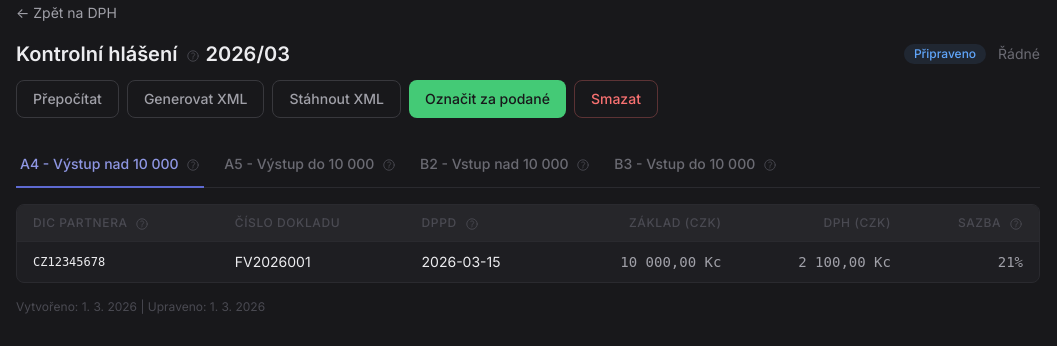
Test: Control Statement Detail › shows empty state for B3 tab
Expected: the button "A4 - Výstup nad 10 000" is shown, [16,142,204,188]
Click the button "B3 - Vstup do 10 000" at [696, 165], box [610,142,781,188]
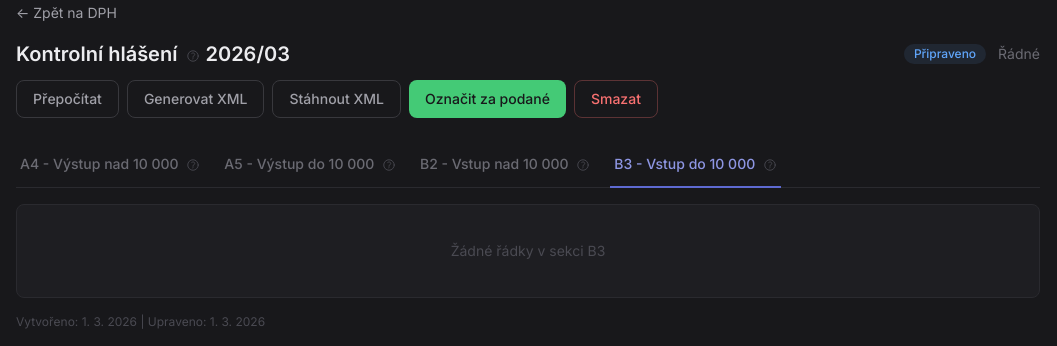
Now the text "Žádné řádky v sekci B3" is shown, box [451,242,605,259]
